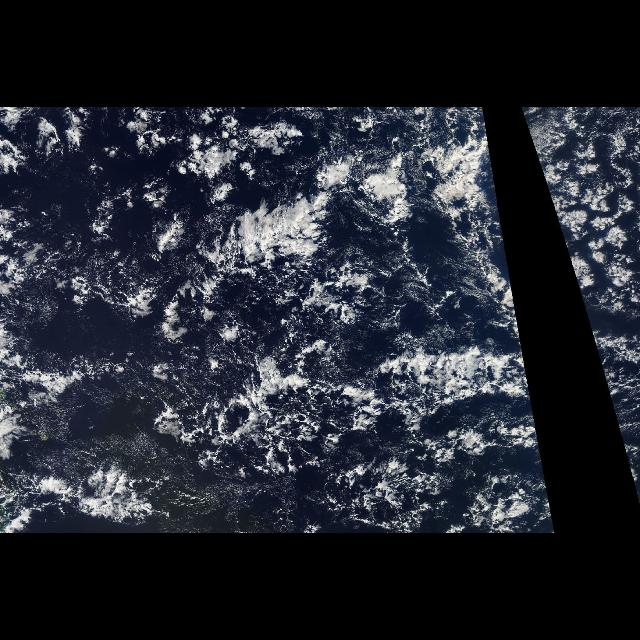Fish: (40, 113, 552, 529), (522, 112, 552, 202)
Gravel: (2, 253, 540, 481)
